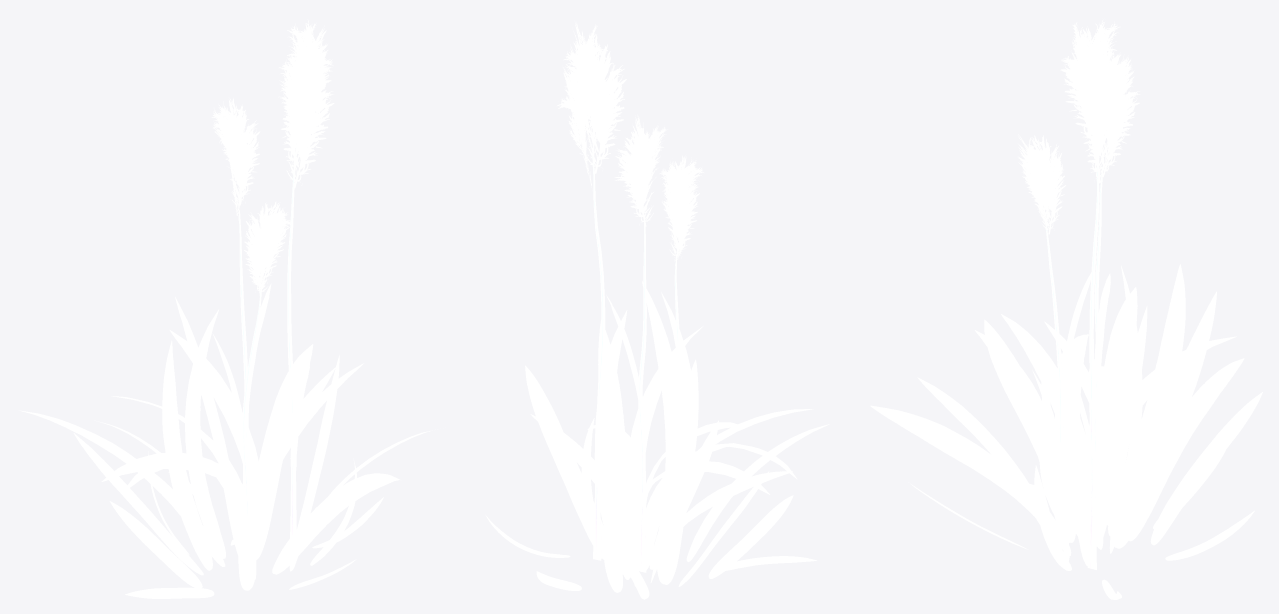
The picture shows the model from 3 angles, left to right: view 1: azimuth 30°, elevation 25°; view 2: azimuth 150°, elevation 25°; view 3: azimuth 270°, elevation 25°; orthographic projection. The views are drawn at different scales.
Parts seen in each view (by area): view 1: SM_SwampGrass_04_LOD0; view 2: SM_SwampGrass_04_LOD0; view 3: SM_SwampGrass_04_LOD0.
Boxes of the visible parts, x1=… form: SM_SwampGrass_04_LOD0: x1=19, y1=19, x2=437, y2=598; SM_SwampGrass_04_LOD0: x1=485, y1=22, x2=829, y2=599; SM_SwampGrass_04_LOD0: x1=870, y1=19, x2=1262, y2=599.
Size of the model in its own units: 1.12 by 1.62 by 1.03.
1 material, 1 textured.
